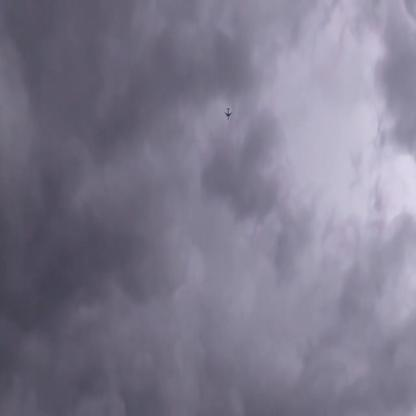CIV_Plane: (224, 106, 233, 118)
